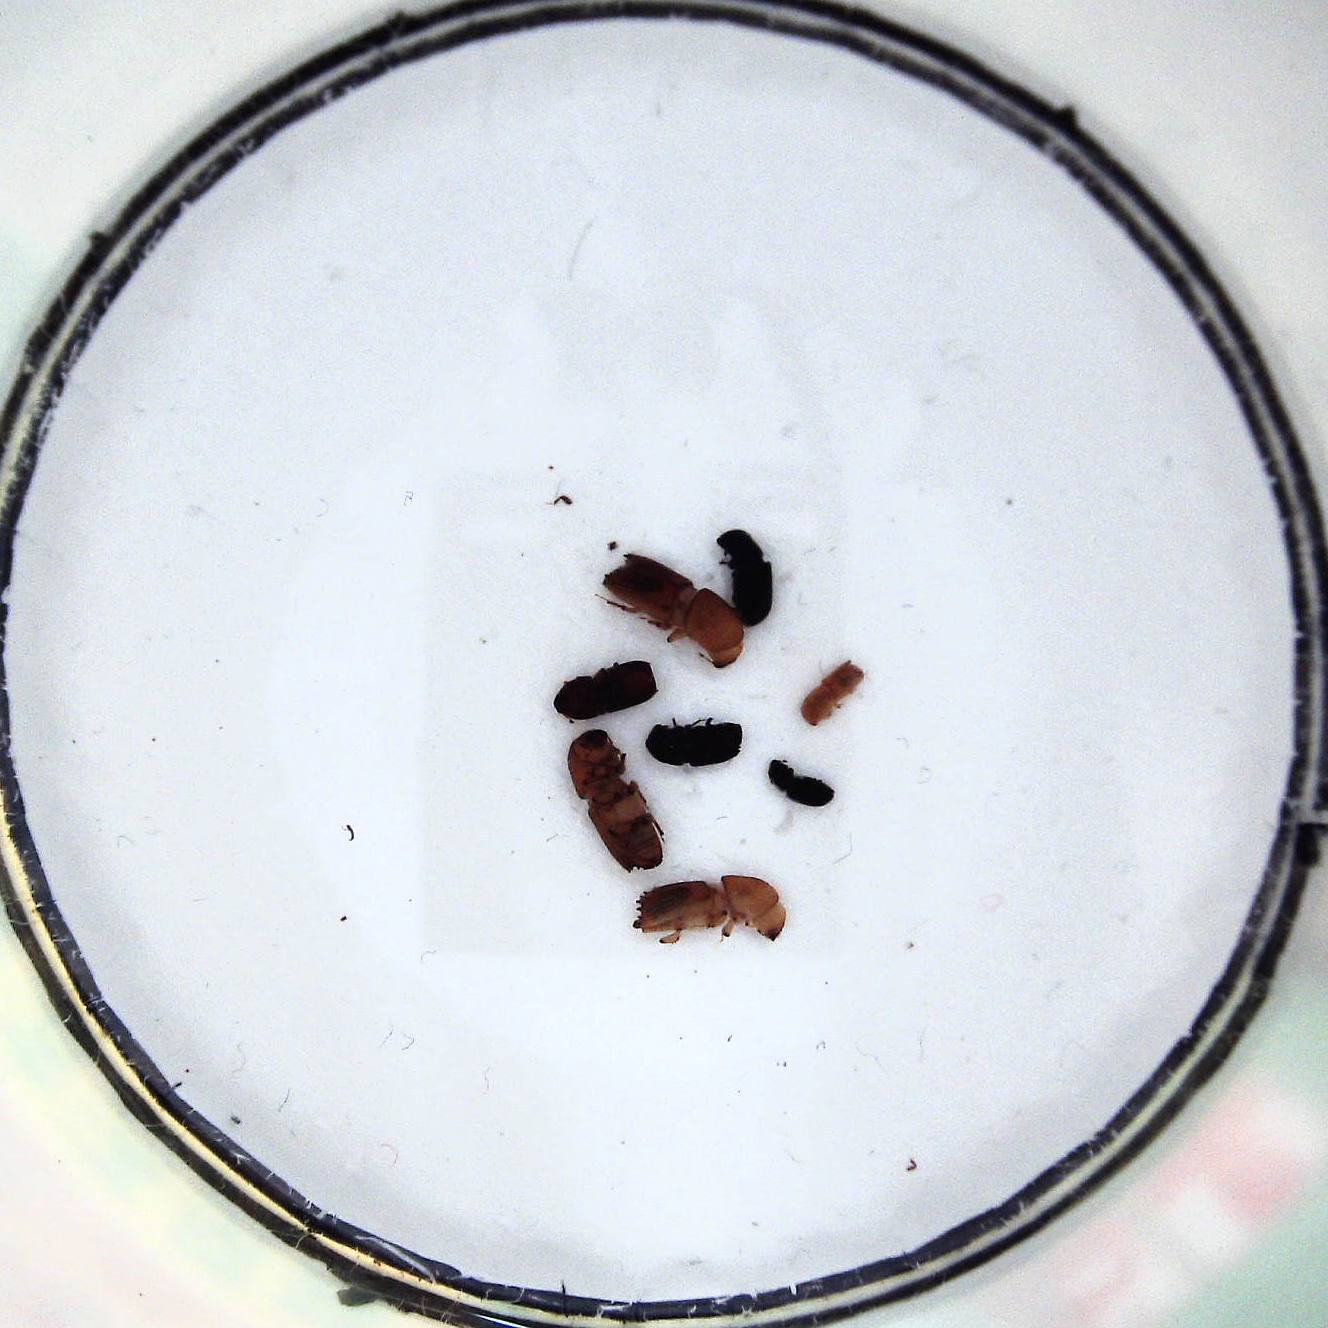Boerner: (600, 553, 744, 669), (568, 727, 665, 872), (631, 873, 788, 950)
Linnaeus: (551, 659, 658, 722), (647, 718, 743, 771)
acuminatus: (800, 660, 863, 728)
armandi: (718, 530, 773, 626)
coleoptera: (769, 756, 835, 806)
